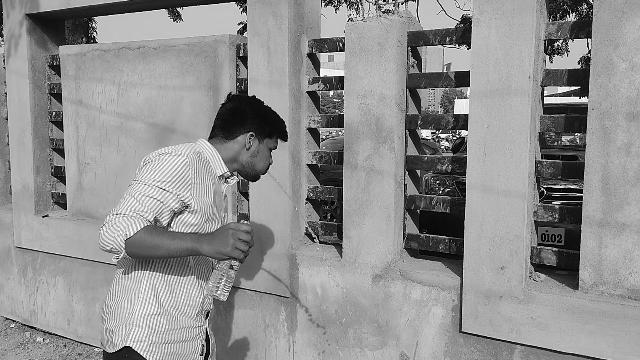spit: (218, 108, 368, 316)
